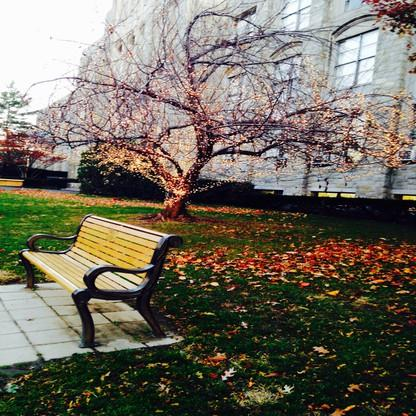obstacle: (28, 206, 185, 364)
